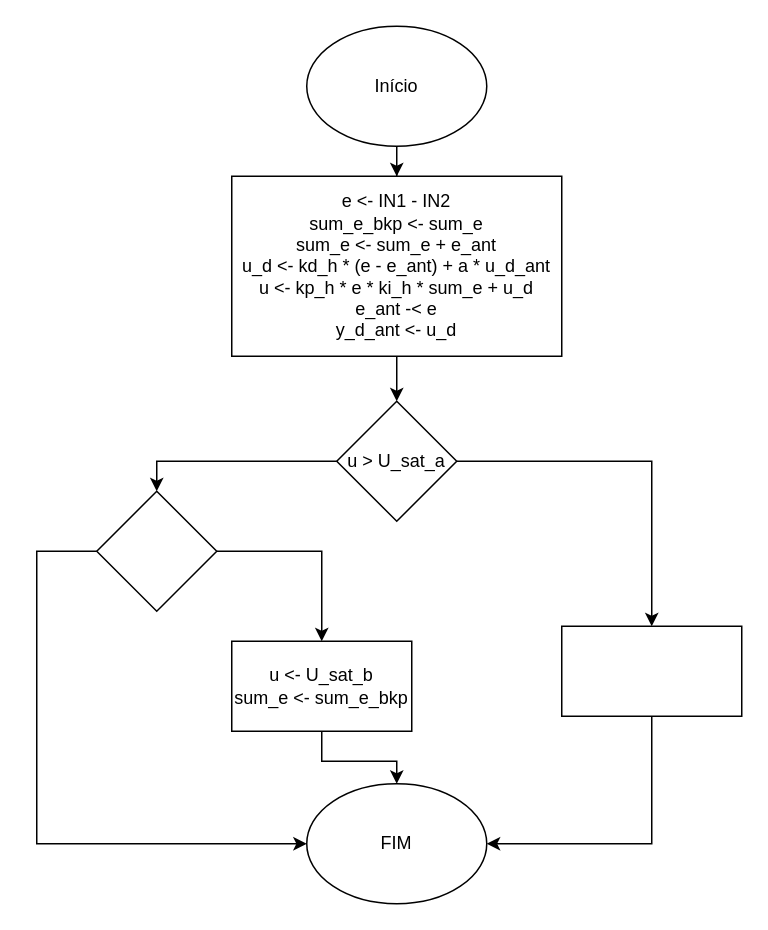
This 768x930 diagram has some shape labels left out. The shapes that lost their labels are listed below. From the top down, each one's box as (x1, y1, x2, y2) in pixels, then its label:
(95, 490, 217, 611): u < U_sat_b
(560, 625, 742, 716): u <- U_sat_a sum_e <- sum_e_bkp
